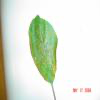Apple rust leaf: (28, 14, 62, 87)
